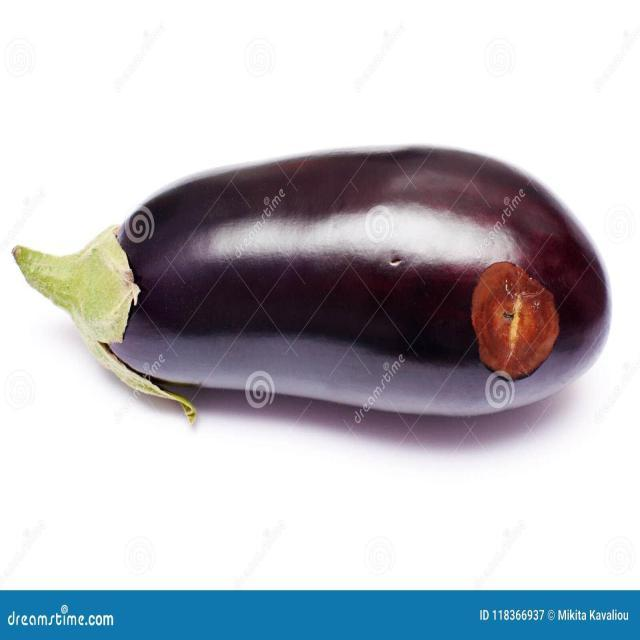eggplant: (11, 145, 611, 426)
